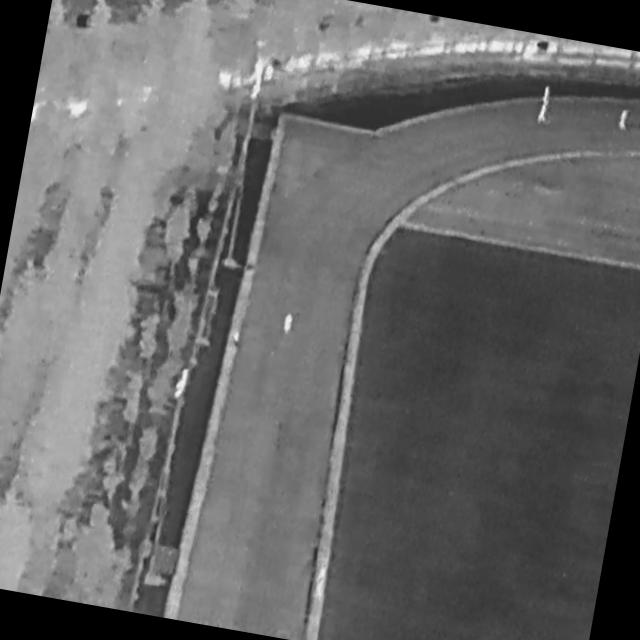person: (314, 566, 327, 598), (618, 108, 631, 133), (282, 313, 294, 338), (537, 104, 550, 126), (230, 330, 241, 355), (542, 85, 553, 108)
